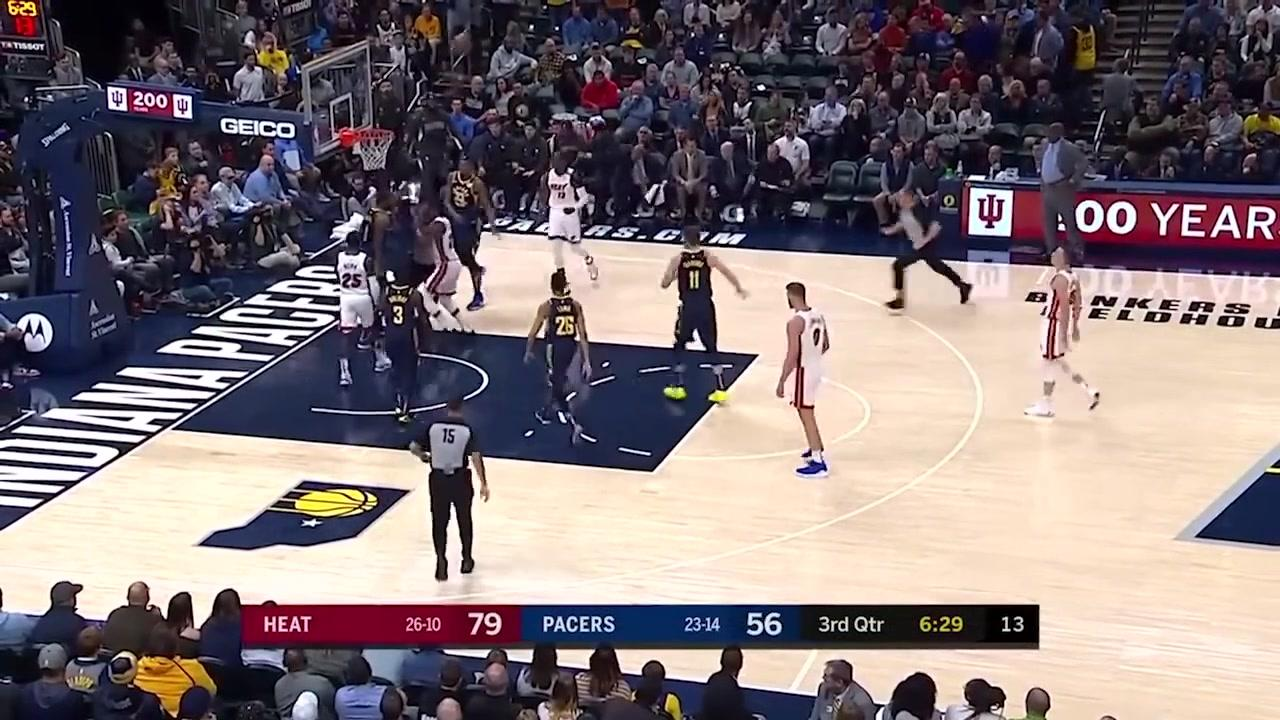foul: (356, 182, 476, 339)
